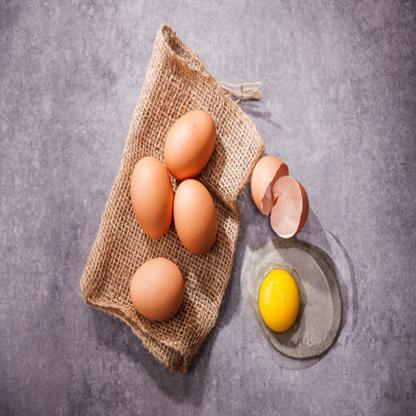egg: (119, 246, 202, 338), (153, 105, 214, 183), (128, 138, 171, 238), (176, 186, 221, 248)
